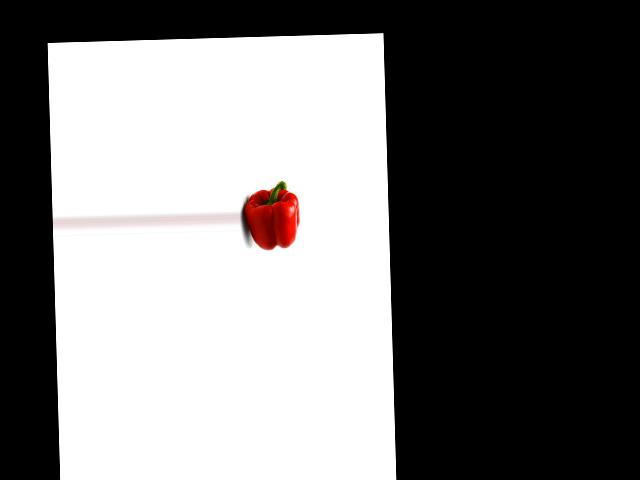bell_pepper: (244, 176, 300, 256)
